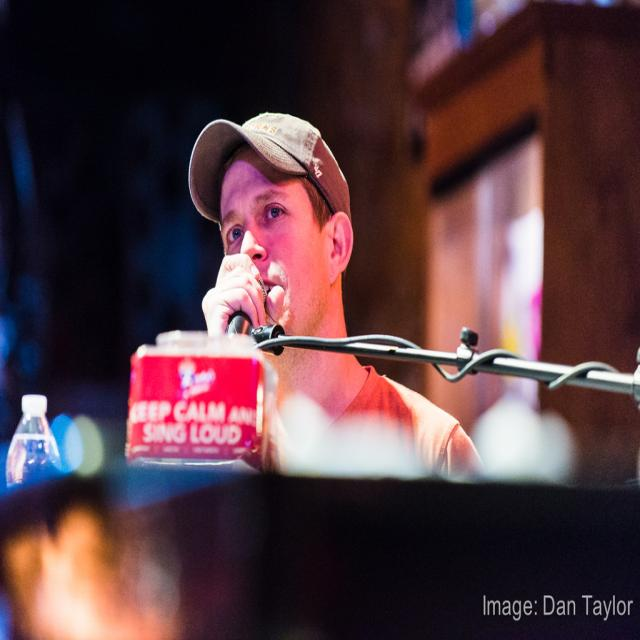Hat: (188, 108, 350, 224)
